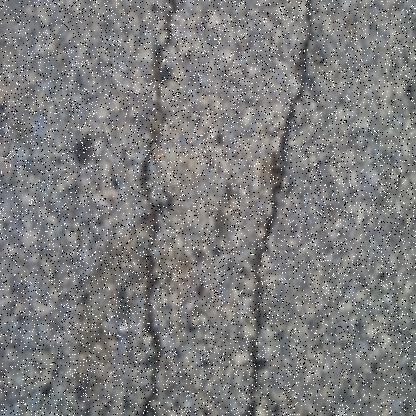Cracks: (244, 0, 316, 416), (135, 0, 182, 416)
